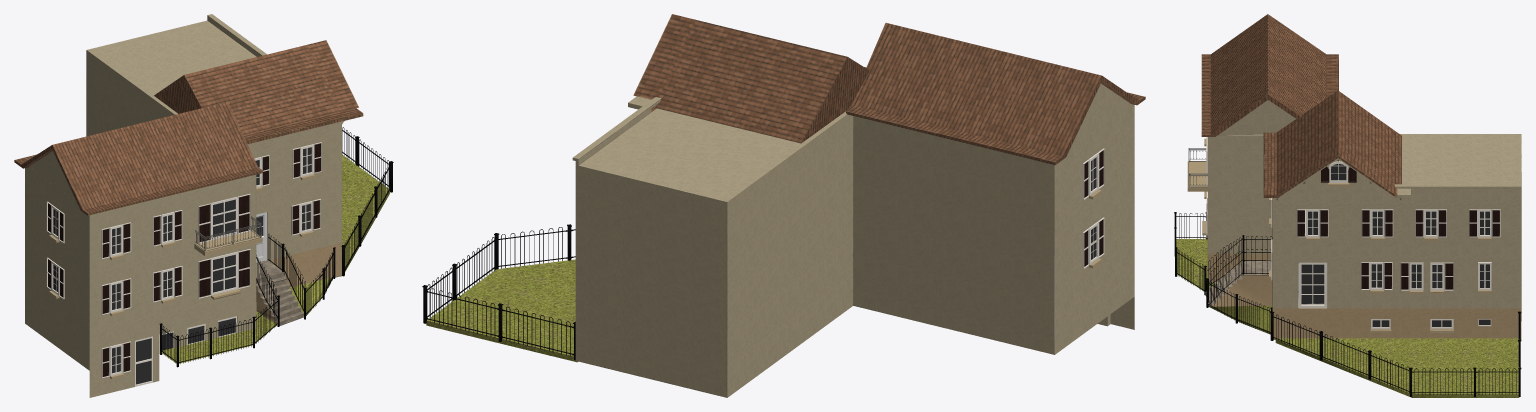
Rendered from French_House.fbx.
The picture shows the model from 3 angles, left to right: view 1: azimuth 30°, elevation 25°; view 2: azimuth 150°, elevation 25°; view 3: azimuth 270°, elevation 25°; orthographic projection. The views are drawn at different scales.
Parts seen in each view (by area): view 1: French_House; view 2: French_House; view 3: French_House.
Boxes of the visible parts, x1,y1,x2,y2 form: French_House: (14,14,393,397); French_House: (422,14,1145,397); French_House: (1174,14,1521,397).
Size of the model in its own units: 13434 by 7164 by 10308.
